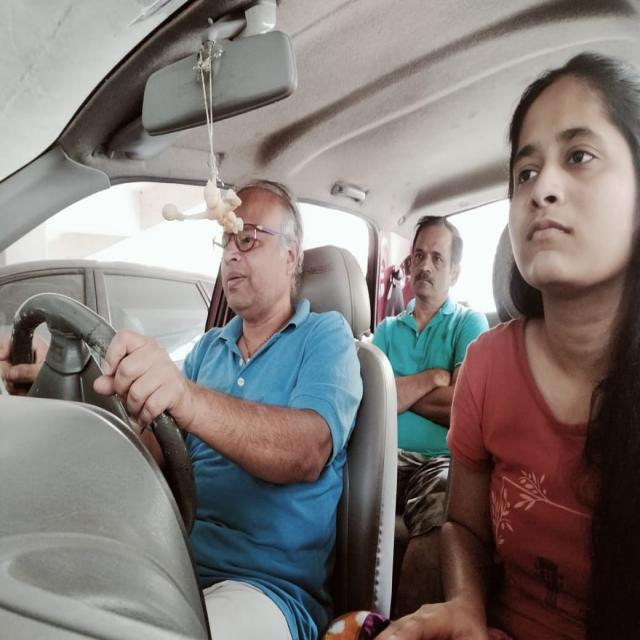person: (497, 51, 640, 305), (217, 177, 310, 317), (404, 211, 464, 318)
